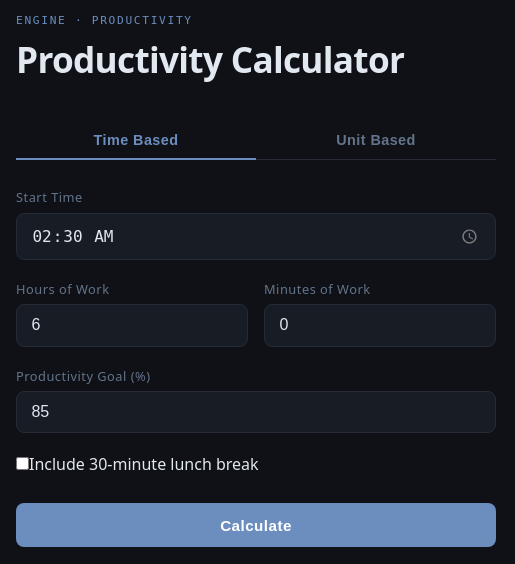
Test case: CalculatorPage › switches to Unit Based form when tab clicked
Click the tab "Unit Based".
click(376, 141)  # box [256,121,496,160]
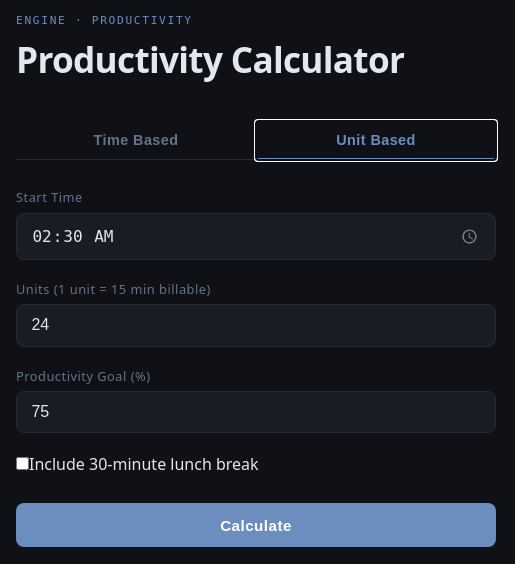
Expected: the number field labelled "Units (1 unit = 15 min billable)" is shown, [16,304,496,346]
Expected: the label labelled "Hours of Work" is gone
